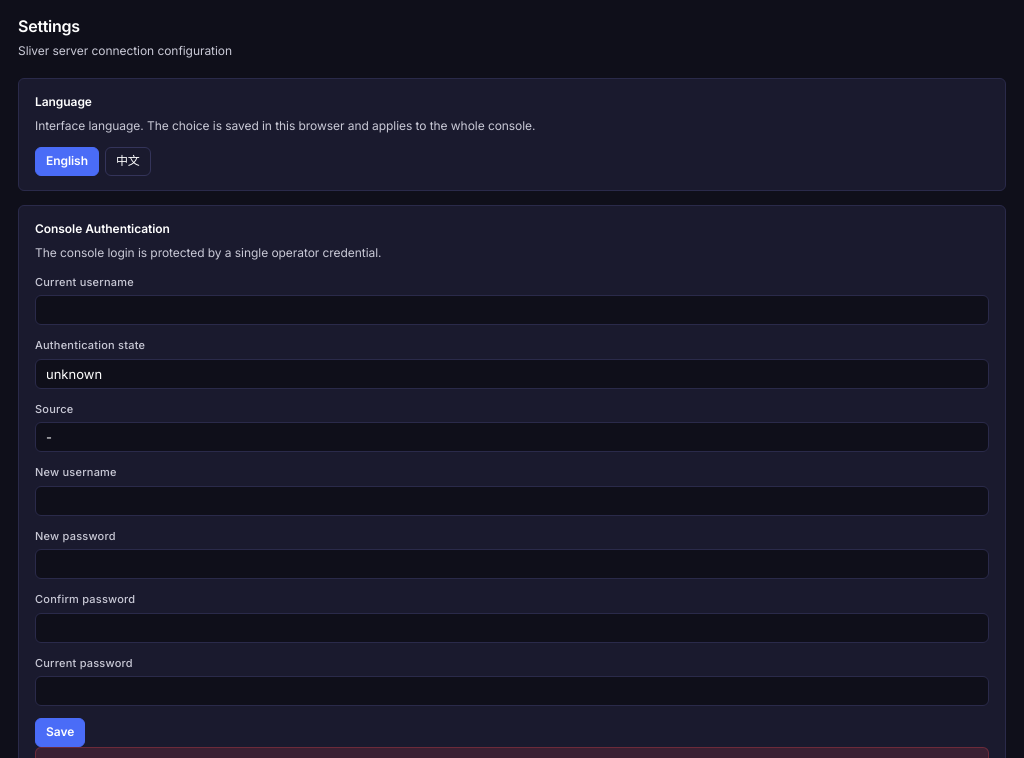
Scenario: SettingsPage language option › switches the UI to Chinese and persists the choice
Check: the text "Language" is shown, box [35, 94, 92, 109]
Click the button "中文": (128, 161) [105, 147, 151, 176]
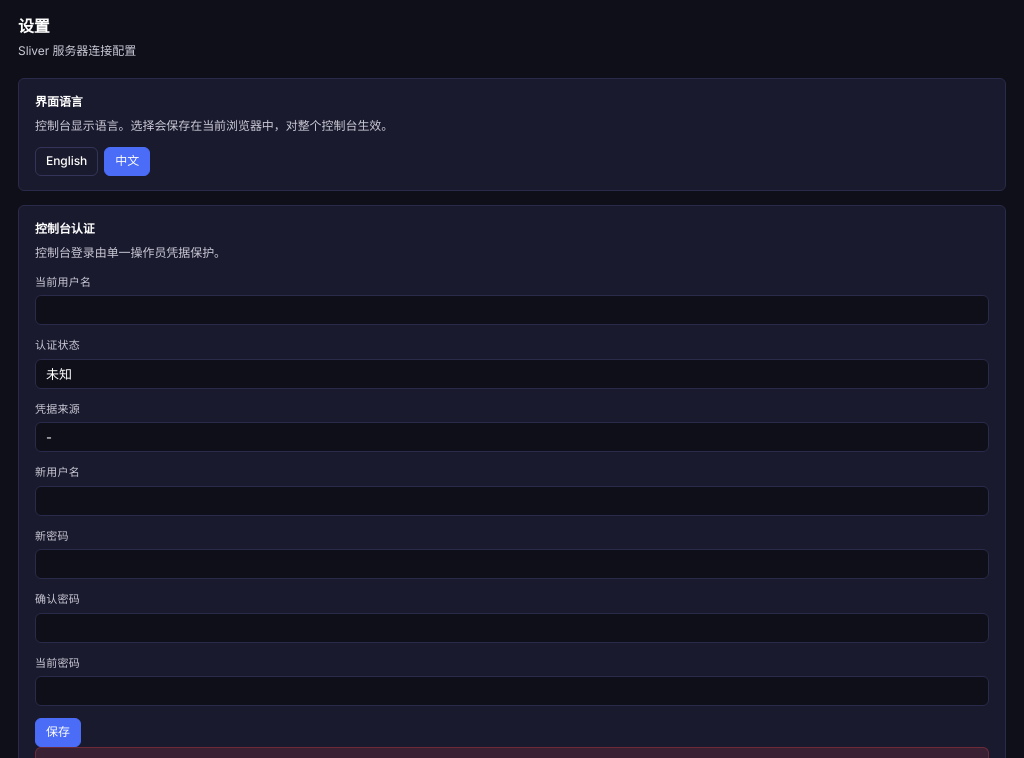
Check: the text "界面语言" is shown, box [35, 94, 83, 109]
